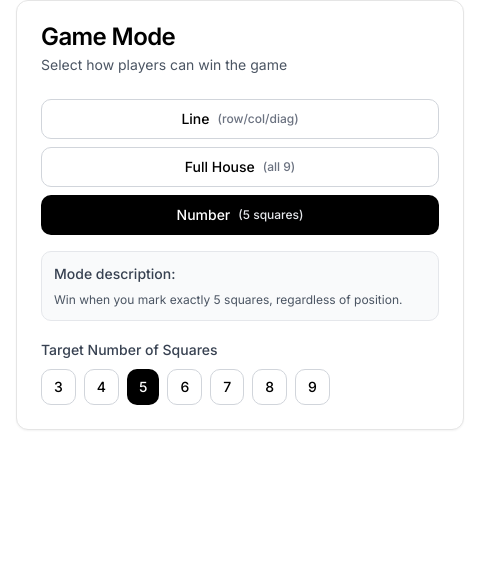
GameModeSelector › shows confirmation dialog when a target number is selected
Click on number 7 button
What coordinates should you click on to do the following:
click the button "7"
I would click on:
 (227, 387)
Its box is [210,369,244,405].
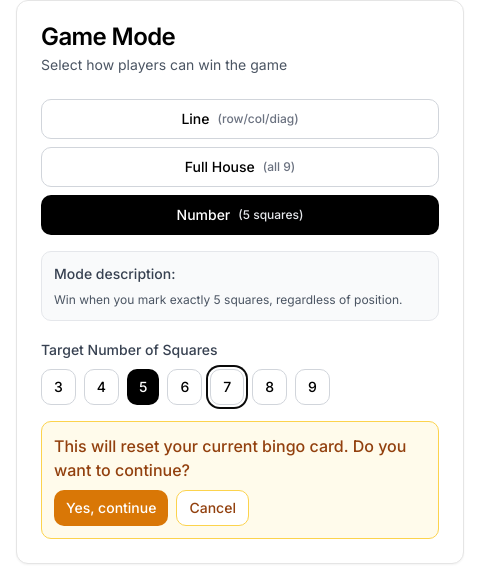
Expected: the text "This will reset your current bingo card. Do you want to continue?" is shown, [54,434,426,482]
